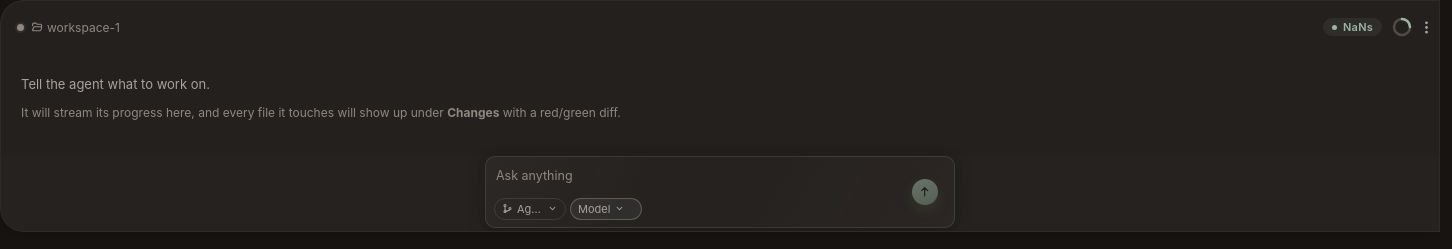
Test: agent panel usage tracker › shows context-window utilization with a fill bar, percent, and token counts
What coordinates should you click on to do the following:
click the button with class "agent-usage-toggle"
I would click on:
 (1402, 27)
Its box is 1389,13 -> 1415,41.
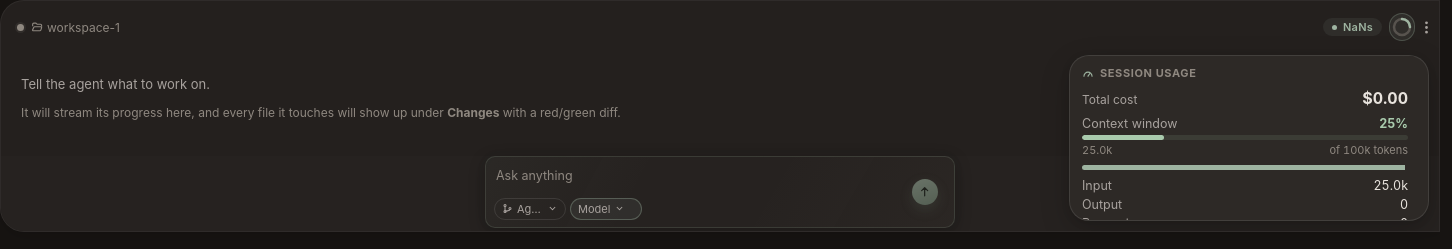
Check: the text with class "agent-usage-context-percent" reads "25%", box 1379,116 -> 1408,131
Check: the element with class "agent-usage-context-counts" shows "25.0k", box 1082,143 -> 1112,157
Check: the element with class "agent-usage-context-counts" shows "100k tokens", box 1082,143 -> 1408,157
